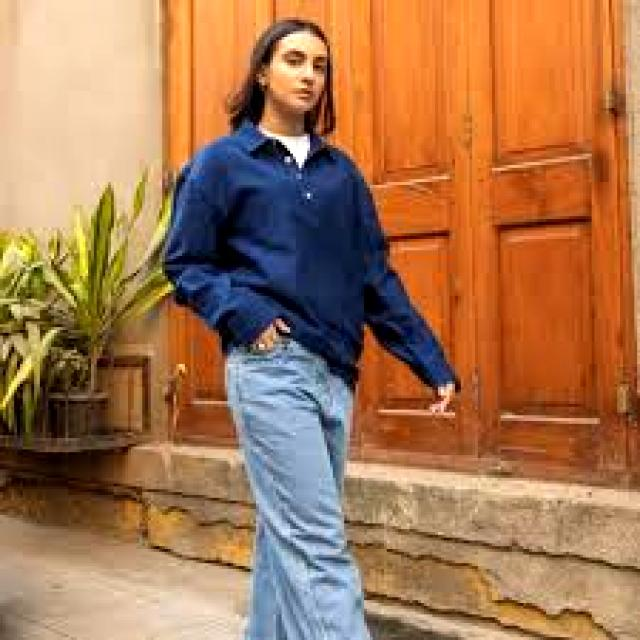face: (259, 32, 329, 119)
lower-wear: (228, 339, 369, 639)
top-wear: (165, 123, 457, 386)
